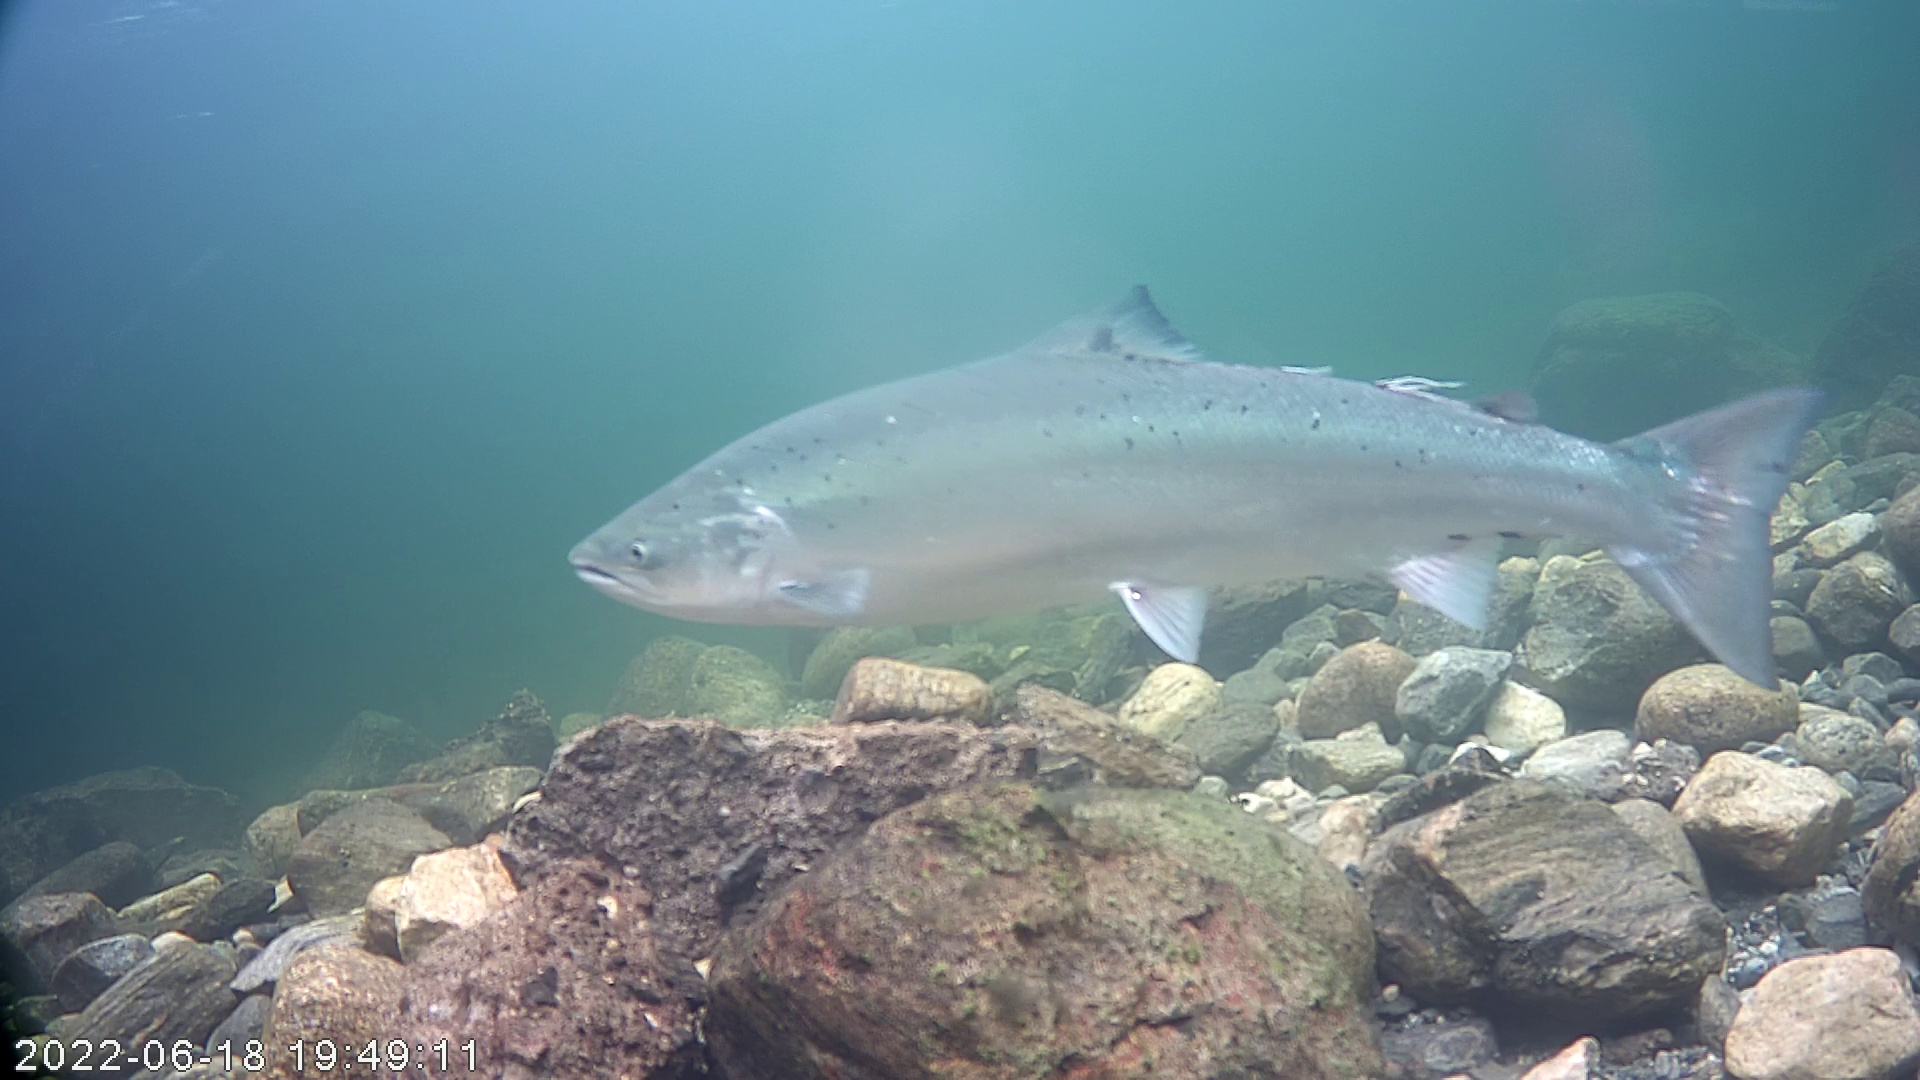salmon: (564, 278, 1829, 696)
